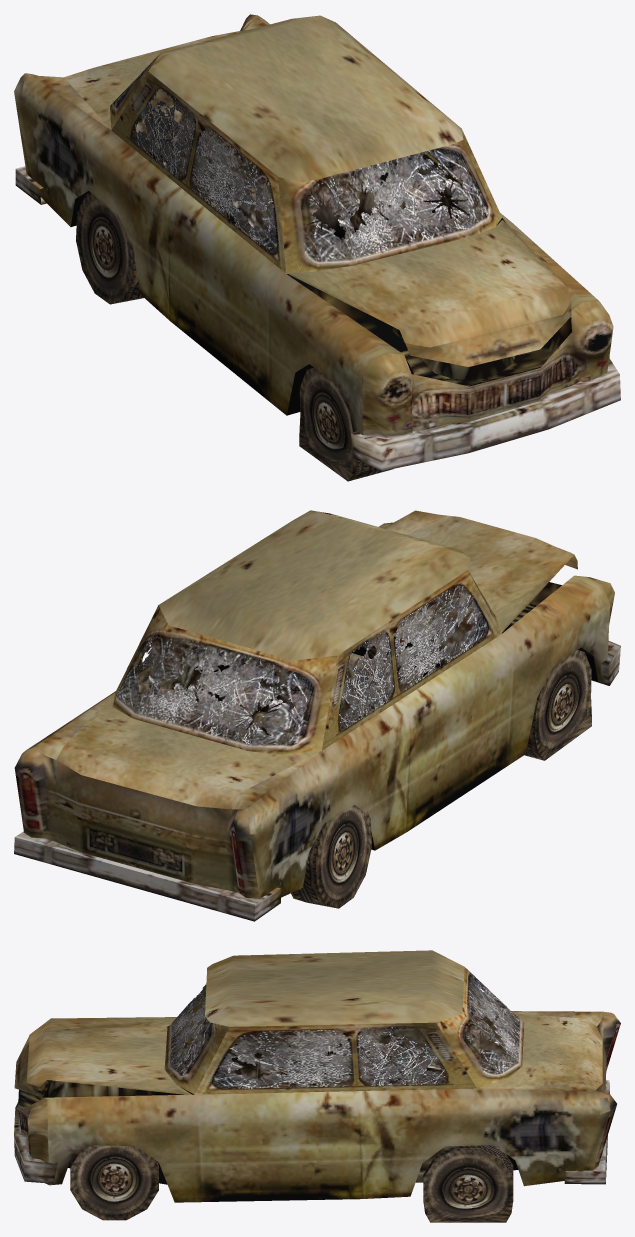
File: NCar1hsk.glb
The picture shows the model from 3 angles, top to bottom: view 1: azimuth 30°, elevation 25°; view 2: azimuth 150°, elevation 25°; view 3: azimuth 270°, elevation 25°; orthographic projection. The views are drawn at different scales.
Visible parts, largest first — view 1: _NCar1hsk; view 2: _NCar1hsk; view 3: _NCar1hsk.
Boxes of the visible parts, x1,y1,x2,y2 form: _NCar1hsk: (14, 14, 620, 481); _NCar1hsk: (14, 510, 620, 921); _NCar1hsk: (14, 950, 620, 1222).
Bounding box in the file's own units: 1.94 × 1.8 × 4.93.
Materials: 3 (3 with a texture image).
